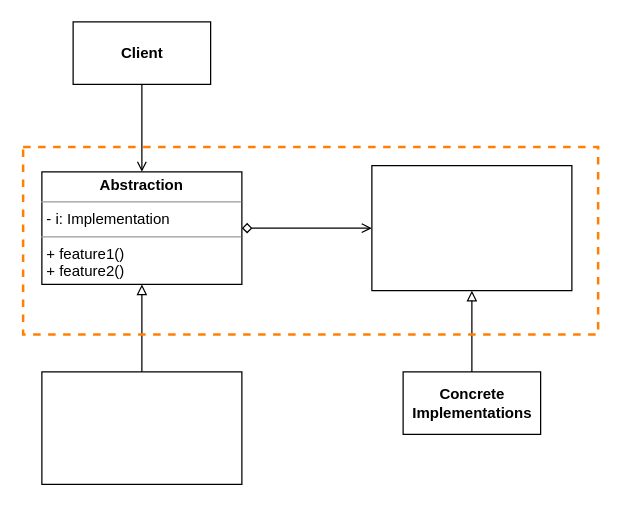
Some shapes in this 620 by 506 pixel diagram are drawn without their labels. Each missing label, with the box of its shape:
<<Interface>> Implementation + method1() + method2() + method3(): (371, 164, 572, 291)
Refined Abstraction ... + featureN(): (41, 371, 242, 484)
